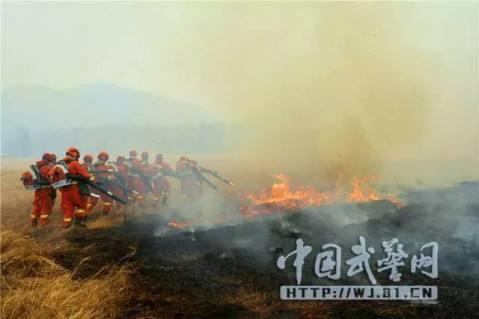fire: (238, 174, 388, 219)
